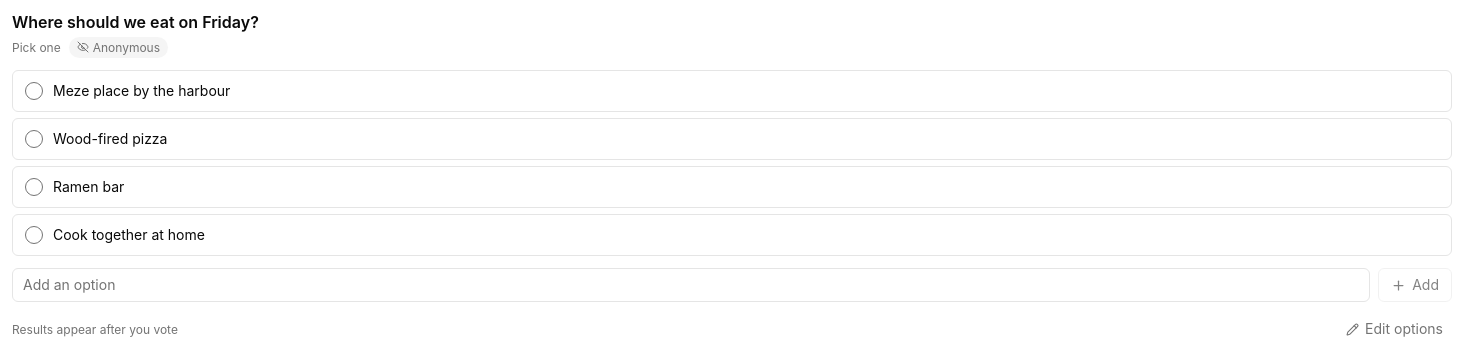
it: Poll › hides voters when anonymous and results until the member voted
Expected: the text "Results appear after you vote" is shown, left=12, top=321, right=178, bottom=338
Click the radio button labelled "Ramen bar" at coordinates (89, 187), box left=12, top=166, right=1452, bottom=208
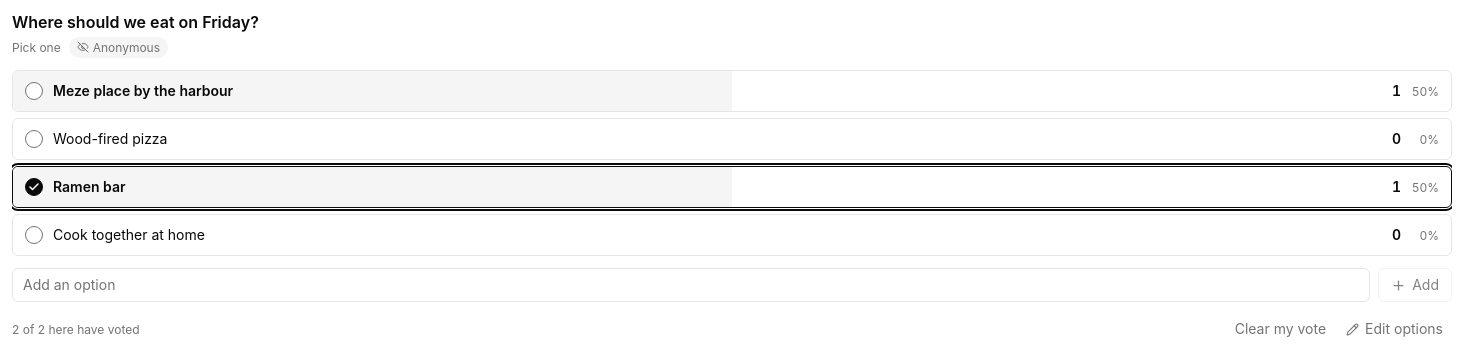
Now the text "50%" is shown 2 times, box left=1407, top=83, right=1439, bottom=100; left=1407, top=179, right=1439, bottom=196
